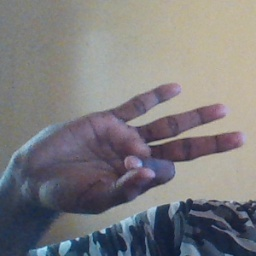K: (22, 72, 246, 215)
